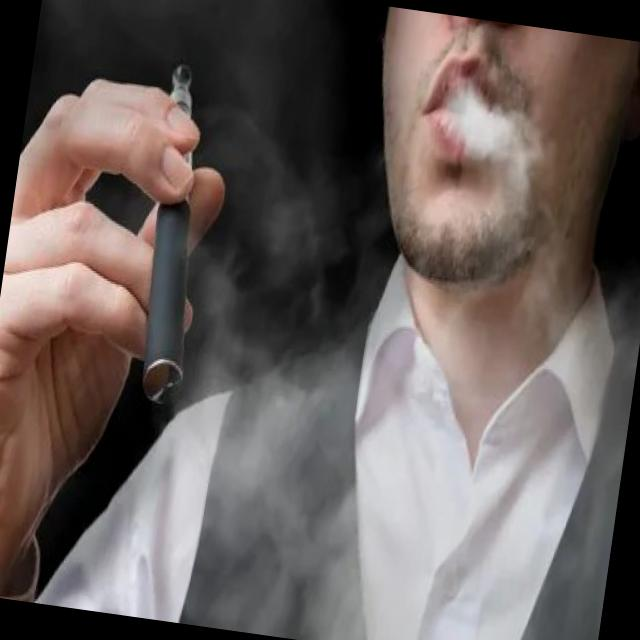cigarette: (113, 52, 232, 413)
